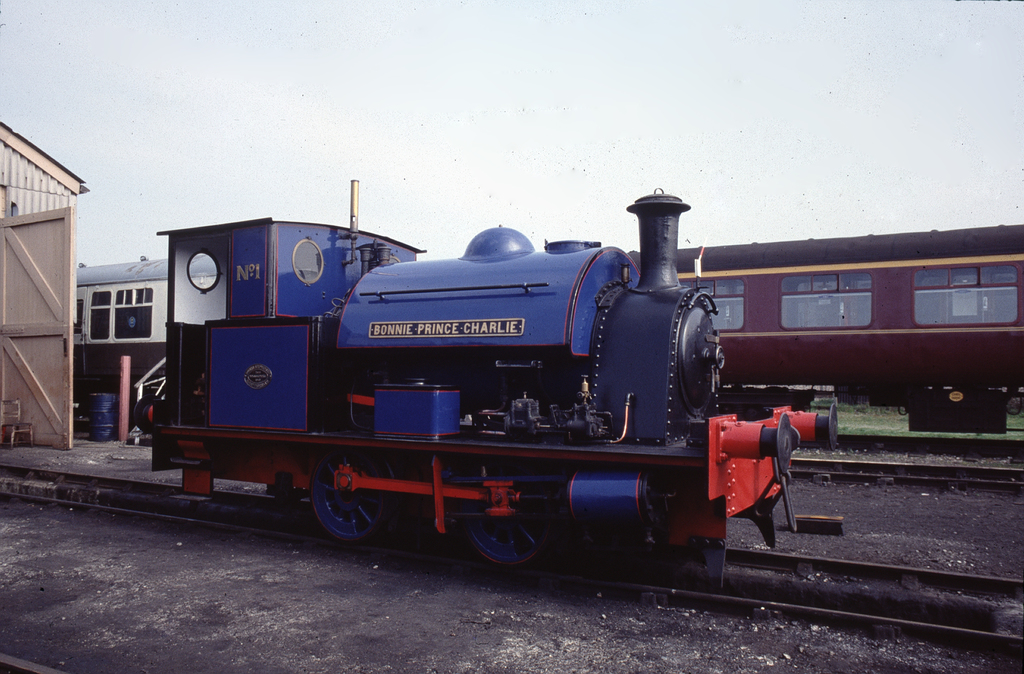train: (144, 176, 843, 597)
